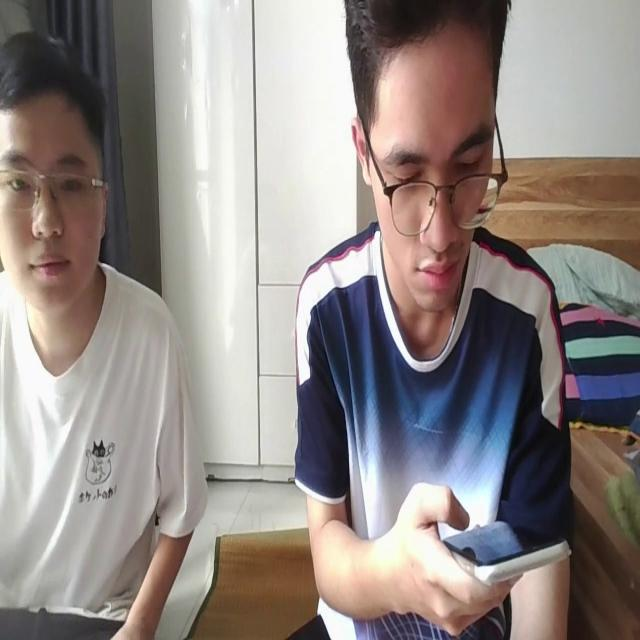extra_person: (0, 26, 211, 640)
student: (290, 0, 572, 640)
